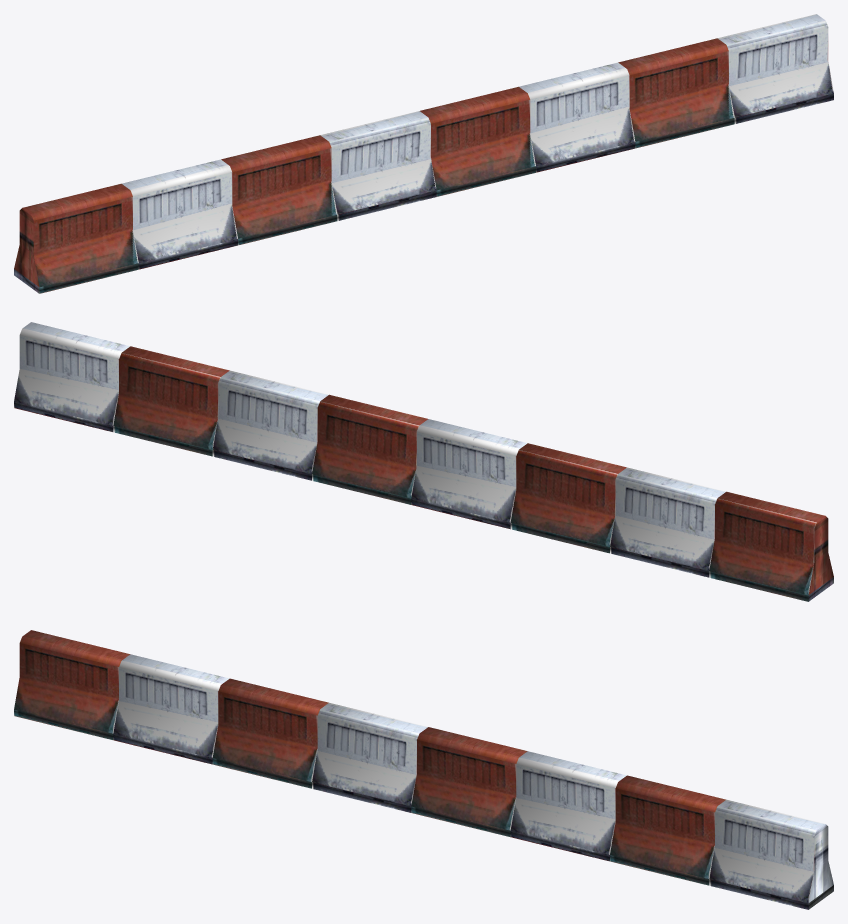
The model's file is Maneh.fbx.
3 renders of one model, top to bottom at view 1: azimuth 30°, elevation 25°; view 2: azimuth 150°, elevation 25°; view 3: azimuth 330°, elevation 25°, orthographic.
Parts seen in each view (by area): view 1: polySurface68; view 2: polySurface68; view 3: polySurface68.
Boxes of the visible parts, left/top/right/bottom form: polySurface68: left=14, top=14, right=833, bottom=293; polySurface68: left=14, top=322, right=833, bottom=601; polySurface68: left=14, top=630, right=833, bottom=909.
Bounding box in the file's own units: 19.58 × 1.73 × 1.09.
1 material, 1 textured.
